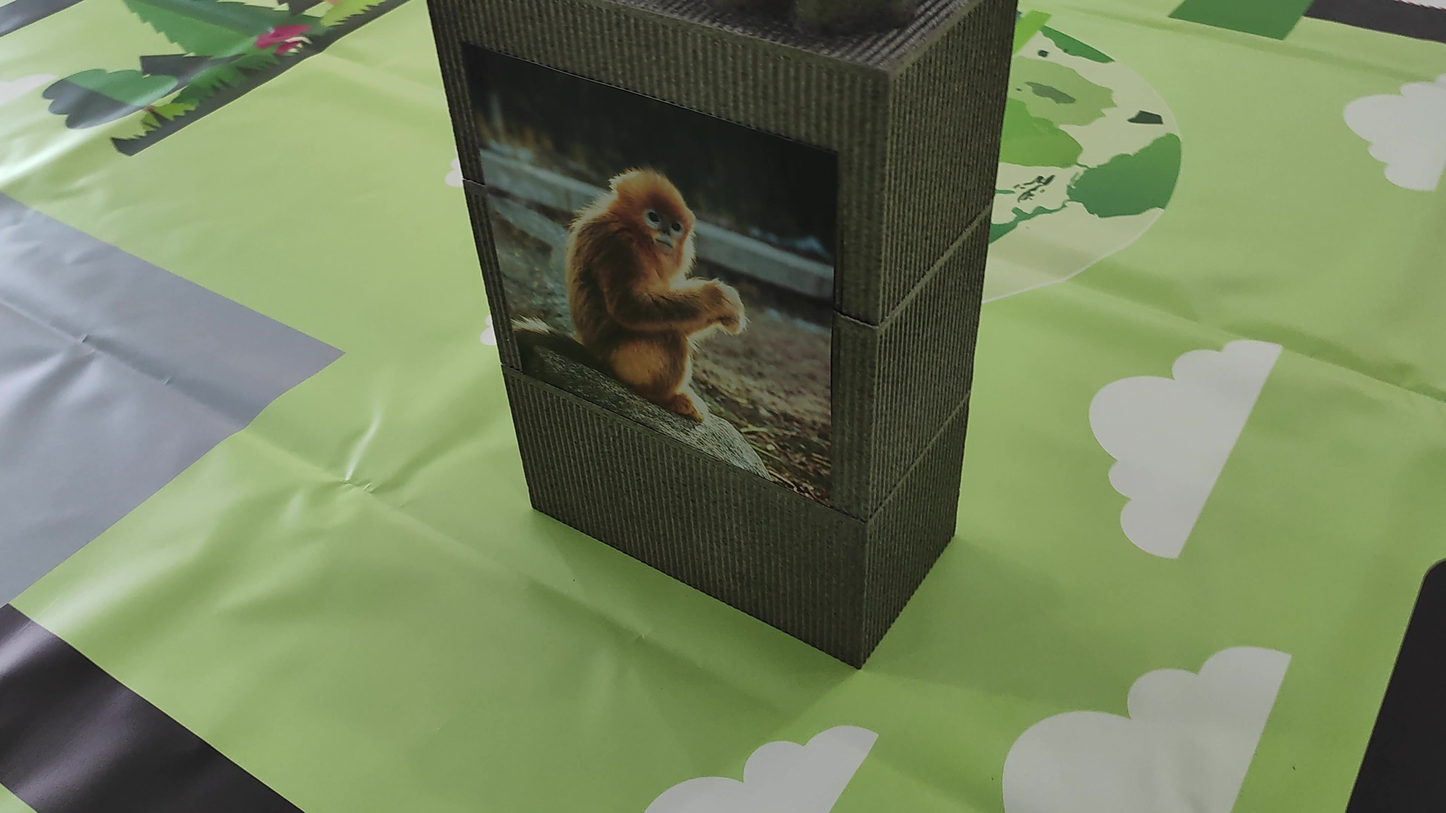monkey: (532, 132, 774, 422)
